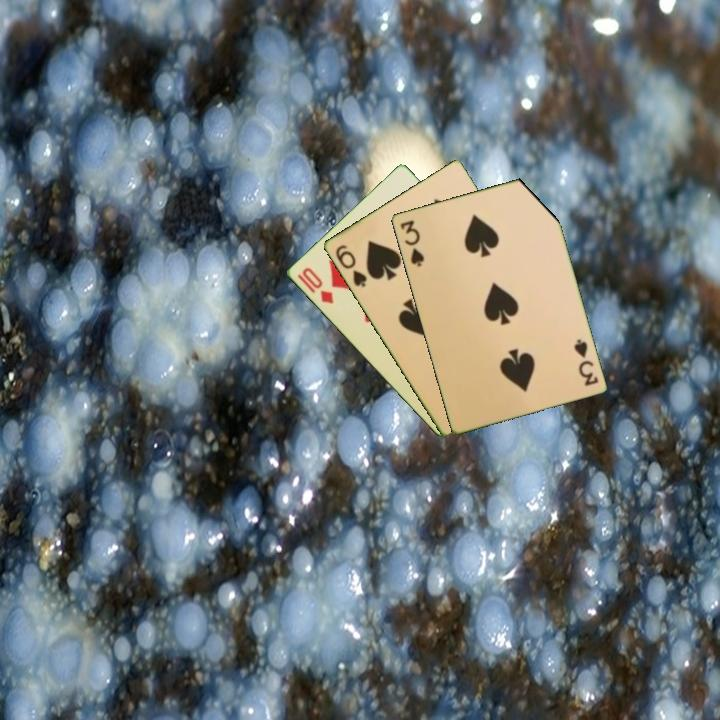10d: (298, 264, 336, 307)
3s: (570, 335, 601, 389), (396, 216, 427, 269)
6s: (331, 241, 370, 290)
